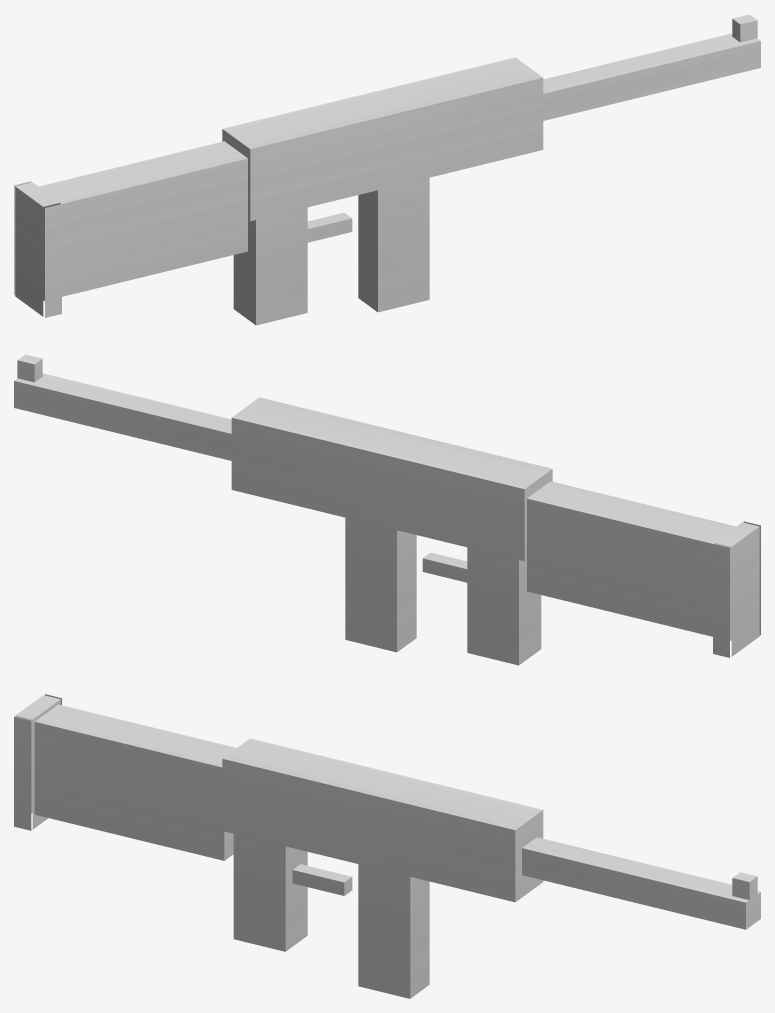
The model's file is assault_rifle.obj.
3 views of the same model, one above another, from view 1: azimuth 30°, elevation 25°; view 2: azimuth 150°, elevation 25°; view 3: azimuth 330°, elevation 25° (orthographic).
Parts seen in each view (by area): view 1: assault_rifle; view 2: assault_rifle; view 3: assault_rifle.
Part boxes in pixels (<box>): assault_rifle: <box>14,14,760,325</box>; assault_rifle: <box>14,354,760,665</box>; assault_rifle: <box>14,694,760,998</box>.
Size of the model in its own units: 0.84 by 0.22 by 0.062.
